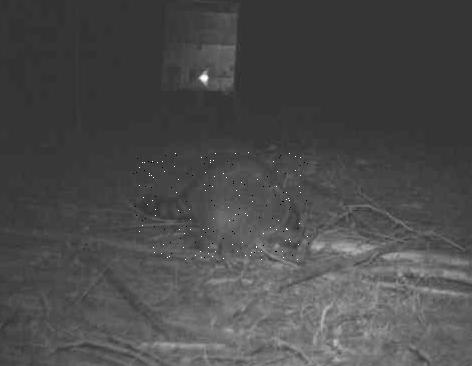Raccoon: (134, 151, 310, 260)
